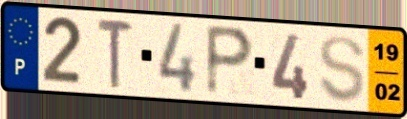2: (40, 14, 87, 88)
4: (155, 21, 200, 96), (269, 29, 312, 103)
P: (204, 22, 258, 99)
S: (316, 33, 367, 105)
T: (95, 16, 137, 91)
